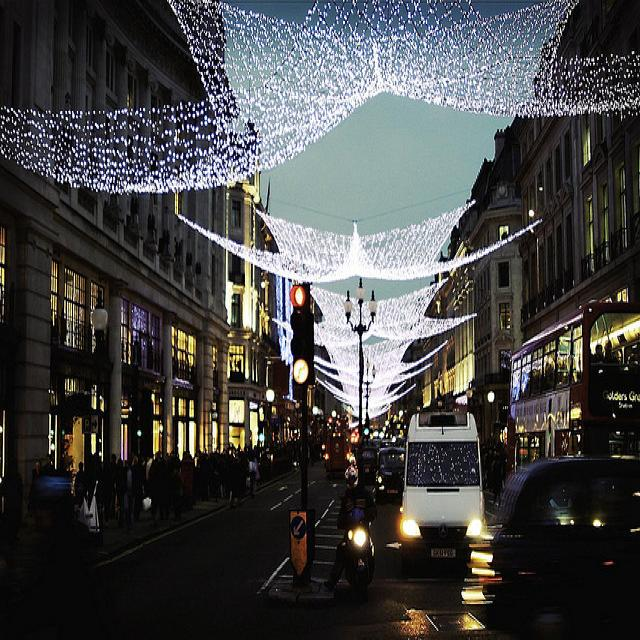motor: (342, 509, 374, 603)
